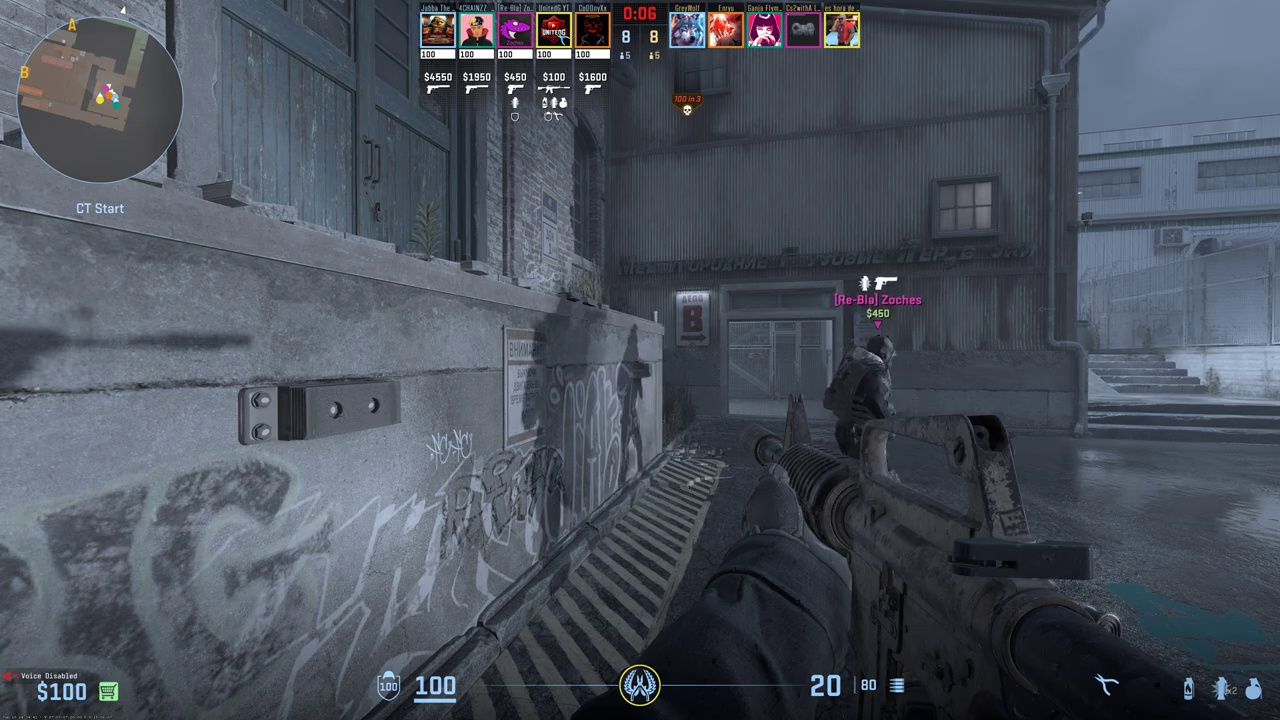CT: (833, 335, 897, 459)
